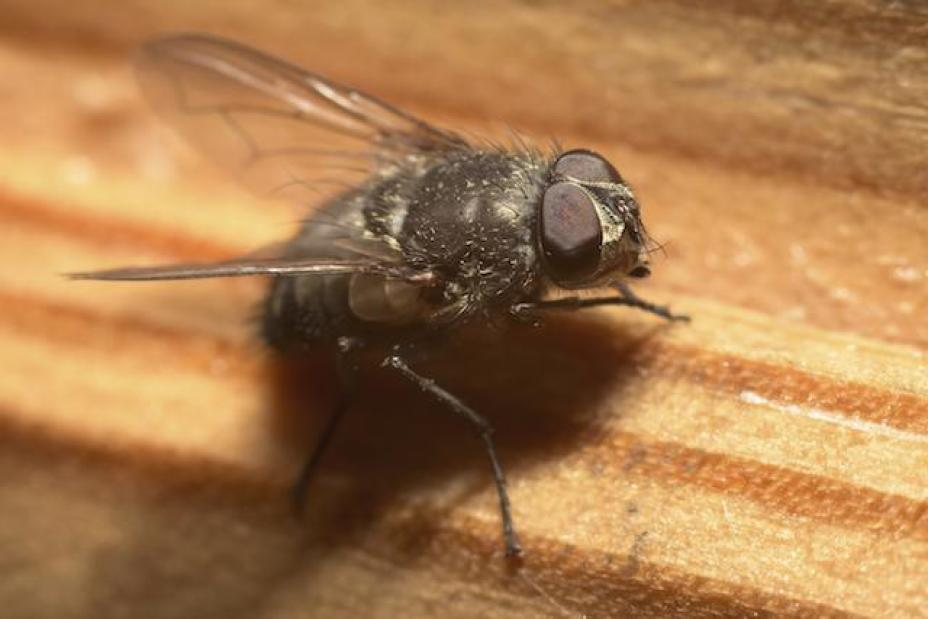house fly: (64, 14, 701, 577)
